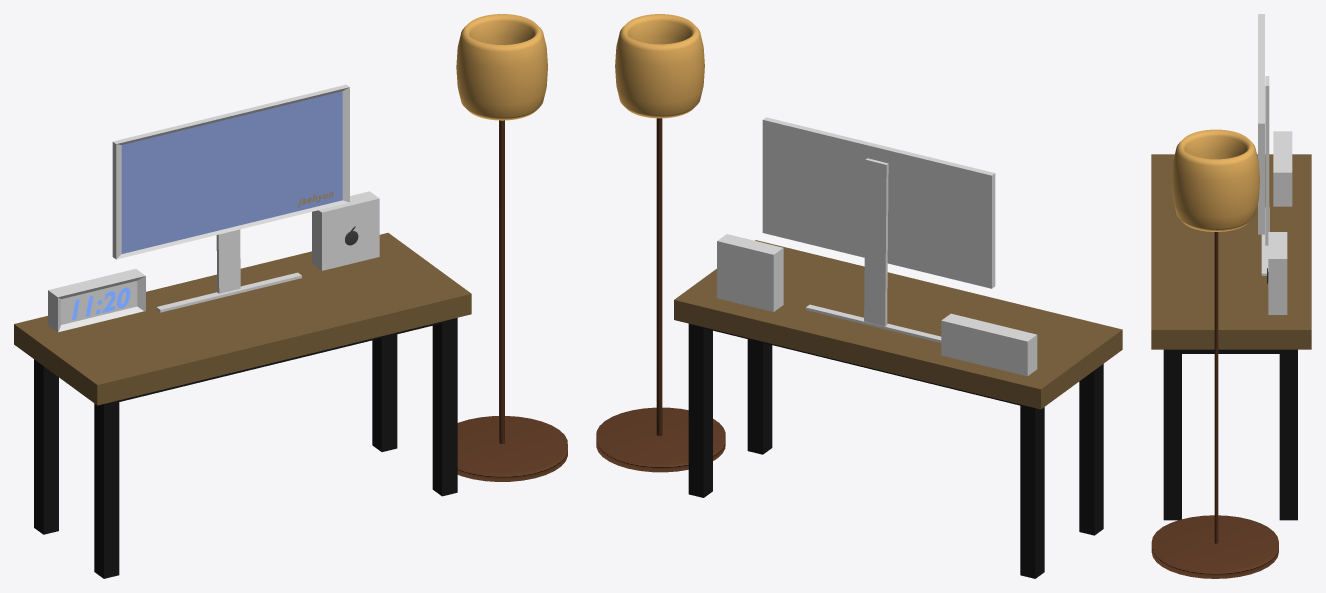
Rendered from decktop.gltf.
3 renders of one model, left to right at view 1: azimuth 30°, elevation 25°; view 2: azimuth 150°, elevation 25°; view 3: azimuth 270°, elevation 25°, orthographic. The views are drawn at different scales.
Visible parts, largest first — view 1: Cube.011, Cube, Cube.003, Torus, Cylinder, Cube.004, Cube.005, Cube.001; view 2: Cube, Cube.011, Cube.003, Torus, Cylinder, Cube.004, Cube.005, Cube.001; view 3: Cube.011, Torus, Cube.003, Cylinder, Cube, Cube.004, Cube.001, Cube.005.
Part boxes in pixels (x1,y1,x2,y2): Cube.011: (14,233,471,405); Cube: (112,84,349,312); Cube.003: (34,318,457,578); Torus: (456,14,547,120); Cylinder: (457,416,567,481); Cube.004: (312,191,379,270); Cube.005: (48,269,145,332); Cube.001: (499,120,504,444); Cube: (762,117,995,342); Cube.011: (674,240,1122,409); Cube.003: (688,323,1103,578); Torus: (615,14,704,118); Cylinder: (596,407,725,472); Cube.004: (717,234,783,311); Cube.005: (941,313,1037,376); Cube.001: (656,118,662,436); Cube.011: (1151,154,1311,349); Torus: (1172,129,1259,231); Cube.003: (1163,349,1297,520); Cylinder: (1151,515,1278,578); Cube: (1258,14,1269,275); Cube.004: (1268,232,1287,314); Cube.001: (1214,232,1218,543); Cube.005: (1273,131,1292,206).
Bounding box in the file's own units: 8.63 × 7.1 × 2.52.
